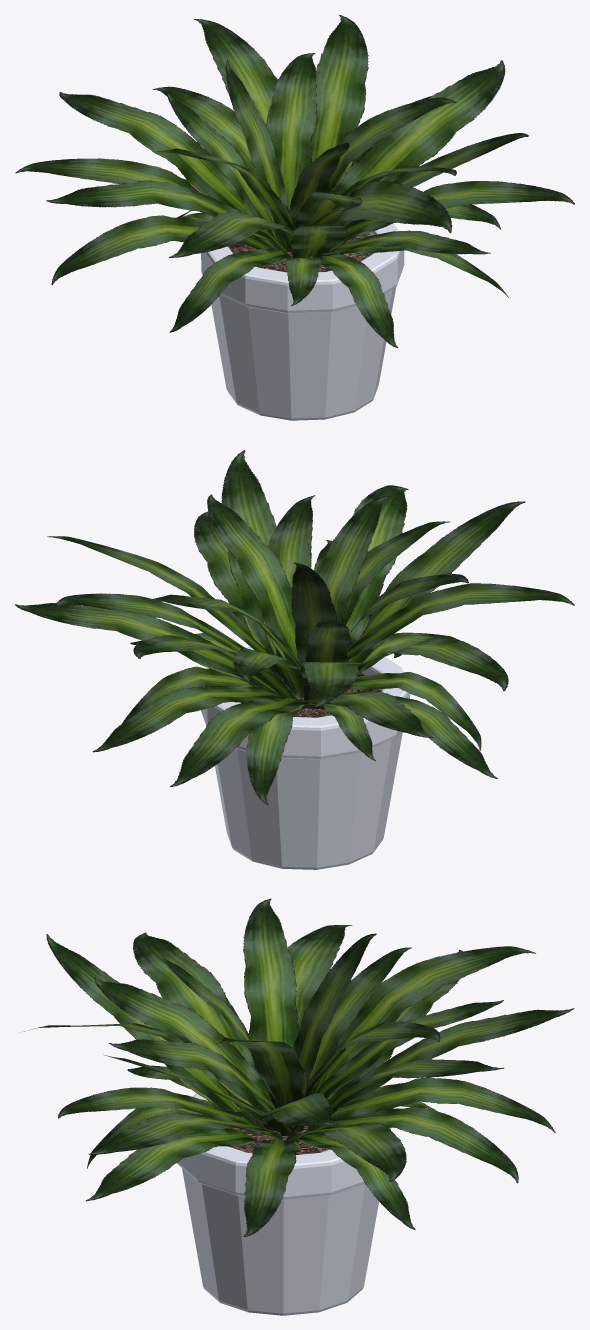
Rendered from Plant 2.FBX.
3 views of the same model, one above another, from view 1: azimuth 30°, elevation 25°; view 2: azimuth 150°, elevation 25°; view 3: azimuth 270°, elevation 25° (orthographic). The views are drawn at different scales.
Parts seen in each view (by area): view 1: Flowerpot_Large_Perf, Plane028, Plane017, Plane020, Plane029, Plane003, Plane006, Plane014, Plane010, Plane012, Plane034, Plane004 (+17 smaller); view 2: Flowerpot_Large_Perf, Plane027, Plane023, Plane008, Plane001, Plane009, Plane019, Plane007, Plane033, Plane014, Plane017, Plane034 (+18 smaller); view 3: Flowerpot_Large_Perf, Plane021, Plane020, Plane018, Plane009, Plane001, Plane010, Plane007, Plane032, Plane023, Plane002, Plane034 (+18 smaller).
Part boxes in pixels (x1,y1,x2,y2): Flowerpot_Large_Perf: (201, 223, 404, 420); Plane028: (329, 60, 505, 228); Plane017: (311, 15, 368, 192); Plane020: (59, 92, 257, 239); Plane029: (266, 53, 316, 210); Plane003: (51, 215, 270, 285); Plane006: (46, 180, 288, 254); Plane014: (313, 181, 452, 233); Plane010: (194, 19, 277, 124); Plane012: (342, 181, 574, 239); Plane034: (225, 60, 289, 249); Plane004: (15, 158, 274, 247); Flowerpot_Large_Perf: (201, 647, 410, 869); Plane027: (207, 494, 304, 697); Plane023: (348, 501, 525, 662); Plane008: (15, 603, 281, 696); Plane001: (170, 696, 310, 786); Plane009: (346, 583, 574, 659); Plane019: (221, 450, 299, 695); Plane007: (92, 686, 280, 752); Plane033: (316, 496, 389, 623); Plane014: (345, 485, 408, 661); Plane017: (56, 593, 297, 698); Plane034: (291, 562, 336, 695); Flowerpot_Large_Perf: (177, 1093, 390, 1315); Plane021: (243, 898, 299, 1077); Plane020: (311, 946, 535, 1098); Plane018: (94, 977, 277, 1131); Plane009: (133, 932, 265, 1129); Plane001: (332, 1077, 555, 1132); Plane010: (307, 1008, 574, 1131); Plane007: (314, 1106, 518, 1183); Plane032: (86, 1128, 260, 1201); Plane023: (46, 934, 242, 1112); Plane002: (243, 1140, 301, 1236); Plane034: (292, 933, 376, 1081).
Bounding box in the file's own units: 61.63 × 39.45 × 60.5.
